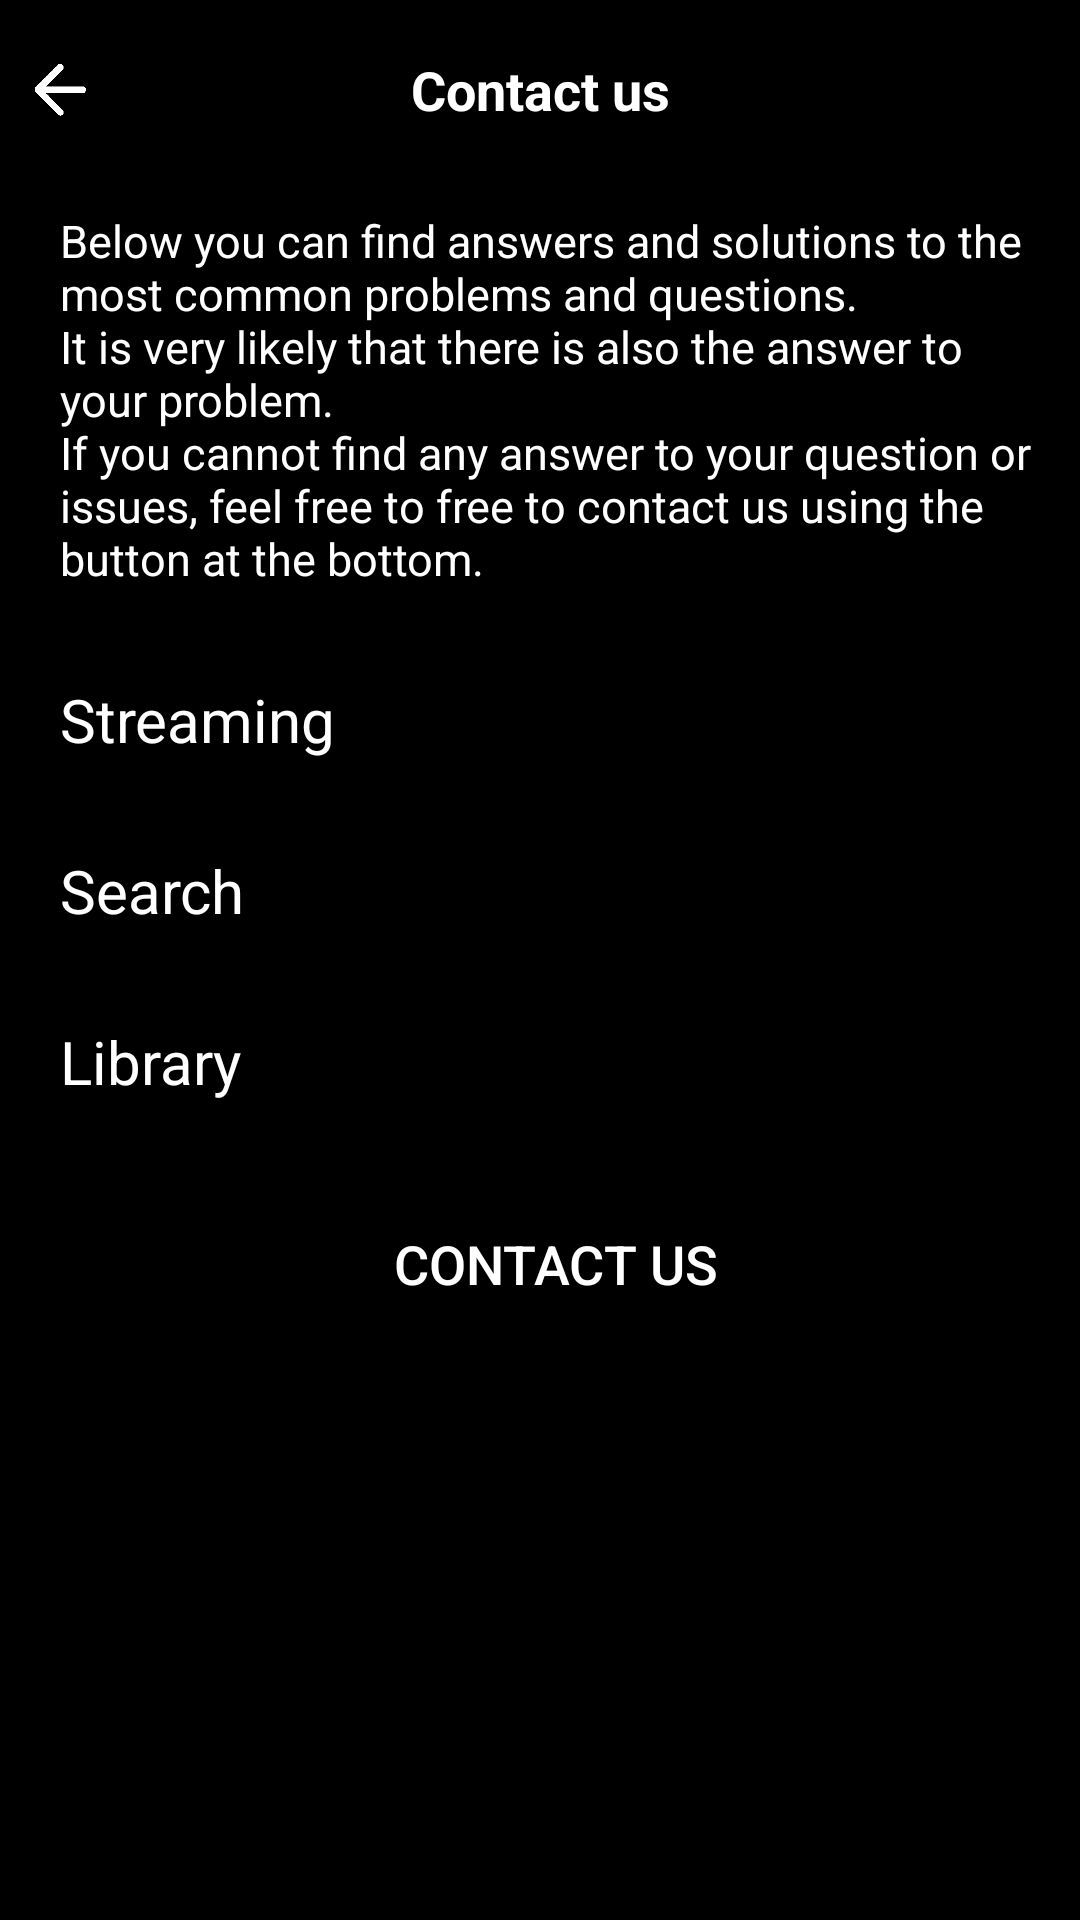

Screen size 1080px×1920px. Icon name, then its center in pixels as (x=x, y=y):
arrow: (x=60, y=90)
